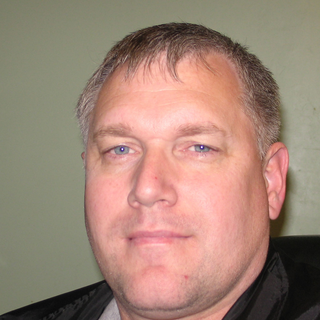eye: (172, 134, 227, 164), (93, 138, 142, 164)
